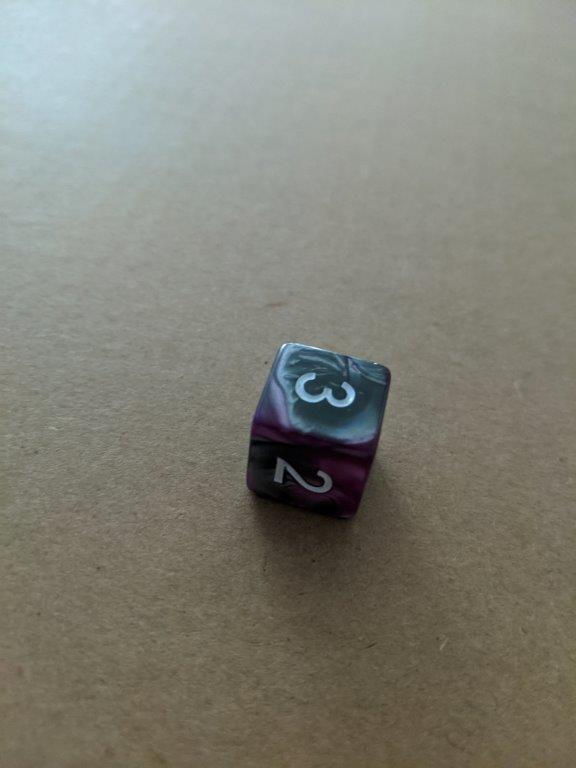d6-3: (243, 339, 392, 522)
